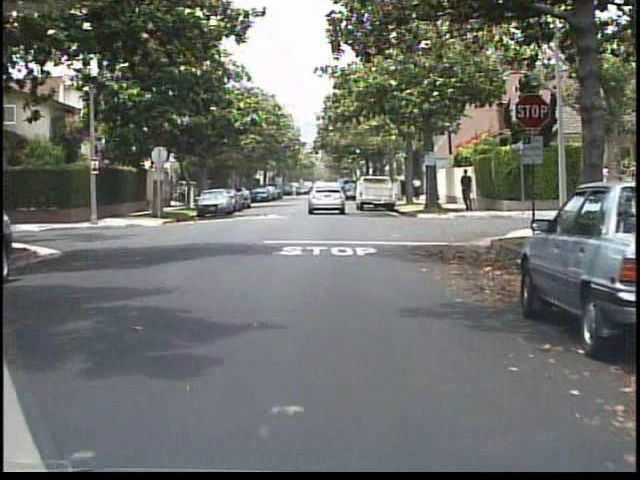person: (458, 167, 479, 215), (175, 178, 192, 208), (413, 173, 425, 202)
